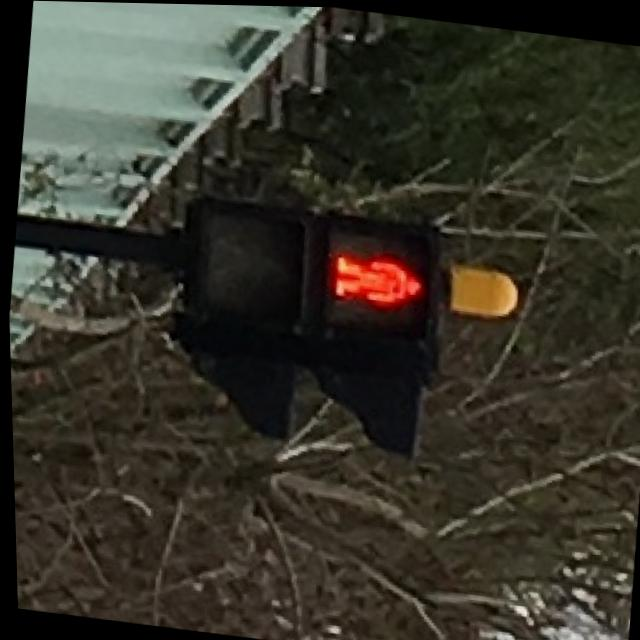red_light: (319, 233, 433, 327)
